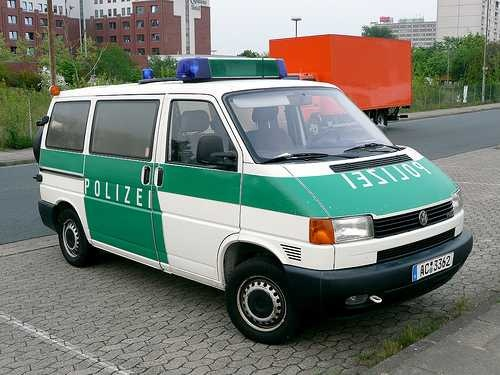Police Van: (38, 52, 470, 329)
